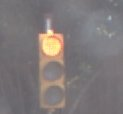Red: (32, 27, 75, 114)
